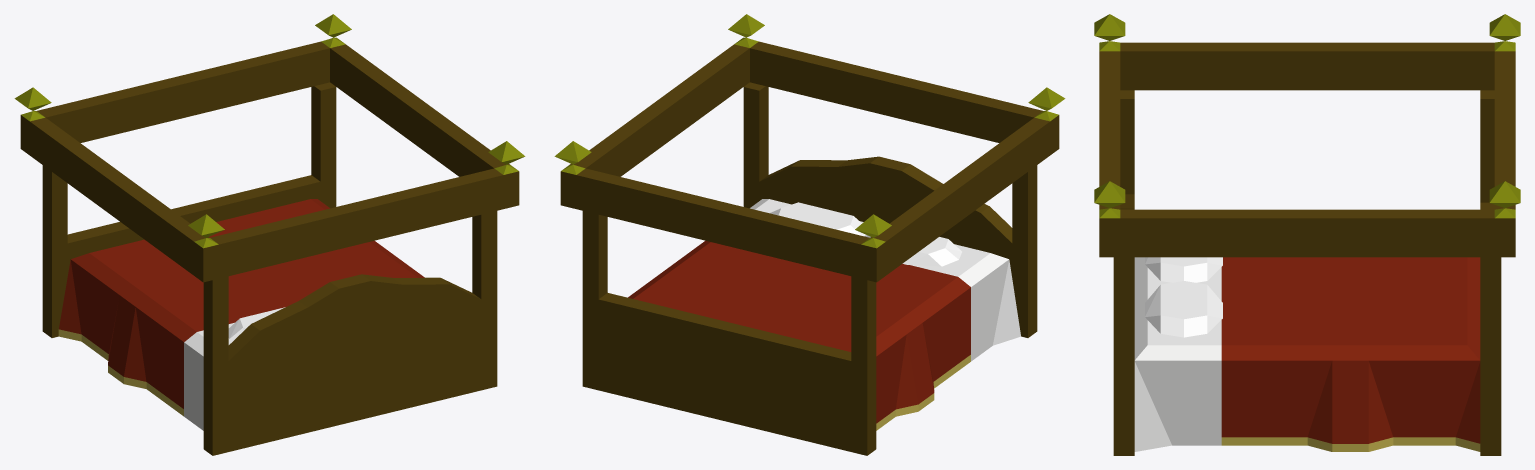
The model's file is obj_bed_12_0.obj.
The picture shows the model from 3 angles, left to right: view 1: azimuth 30°, elevation 25°; view 2: azimuth 150°, elevation 25°; view 3: azimuth 270°, elevation 25°; orthographic projection. The views are drawn at different scales.
Bounding box in the file's own units: 2.56 × 1.85 × 2.56.
